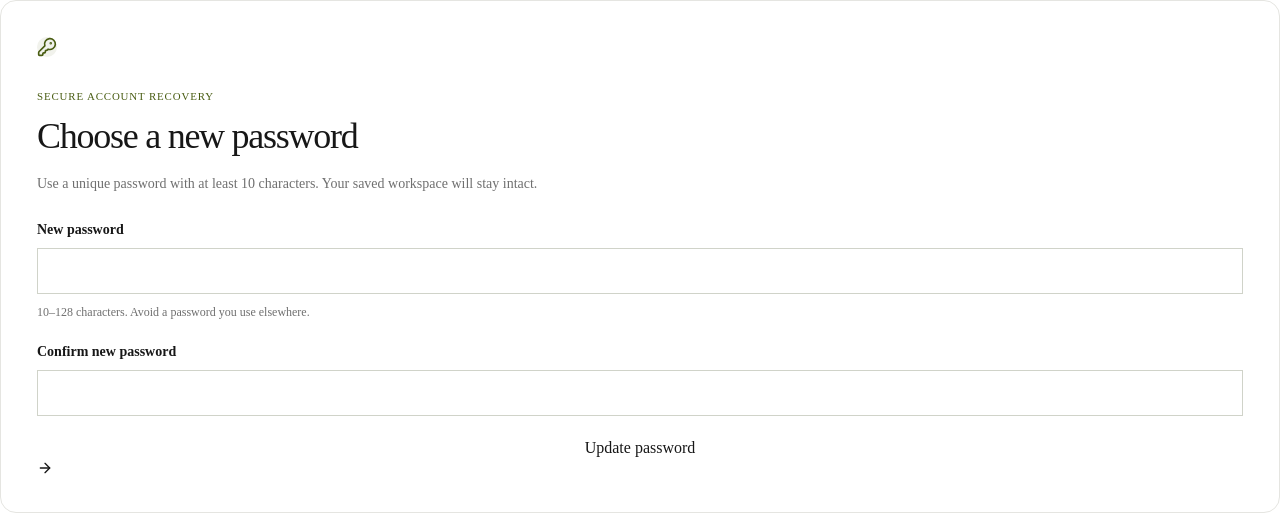
Scenario: human email-link password reset › retains the finite complete outcome across an owner remount without retaining proof
Later steps or results of the test are not shown.
Type "human-new-password-123" into the password field labelled "New password" at (640, 271), box [37, 248, 1243, 294]
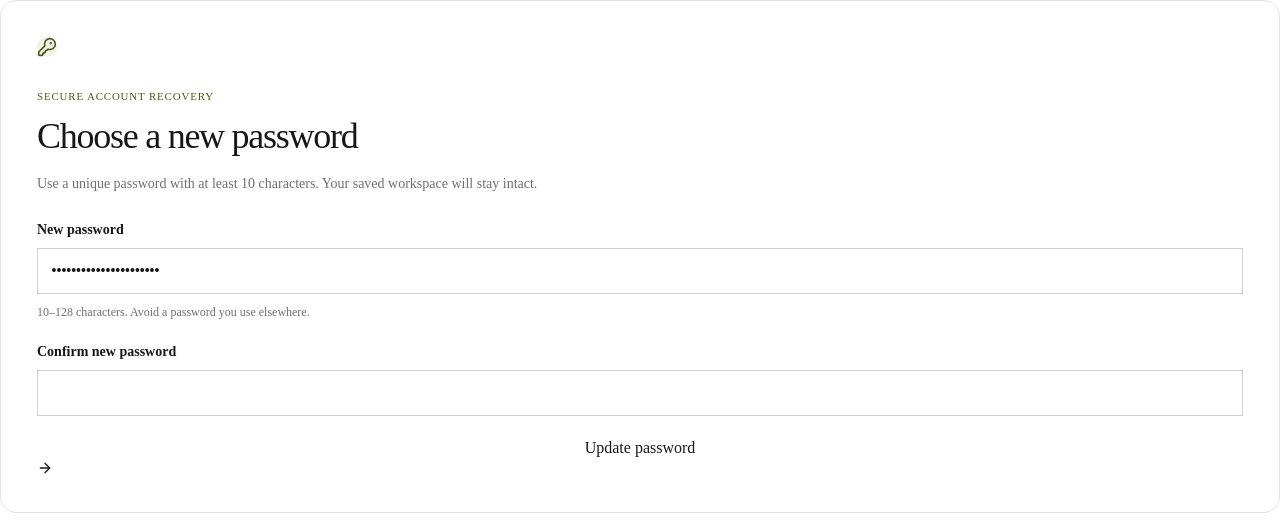
Type "human-new-password-123" into the password field labelled "Confirm new password" at (640, 393), box [37, 370, 1243, 416]
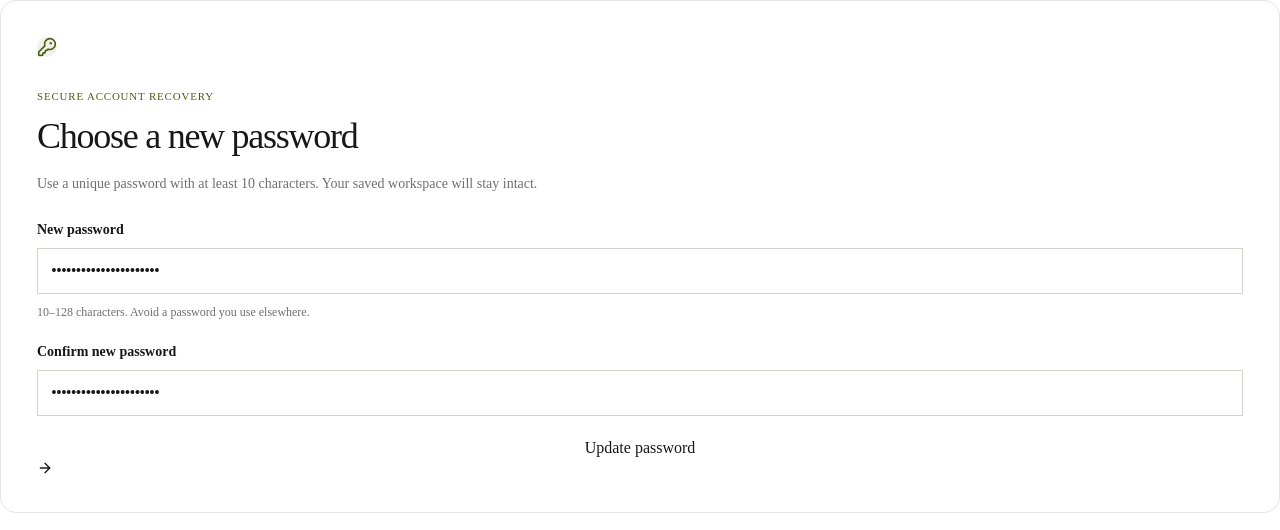
Click the button "Update password" at (640, 456), box [37, 436, 1243, 476]
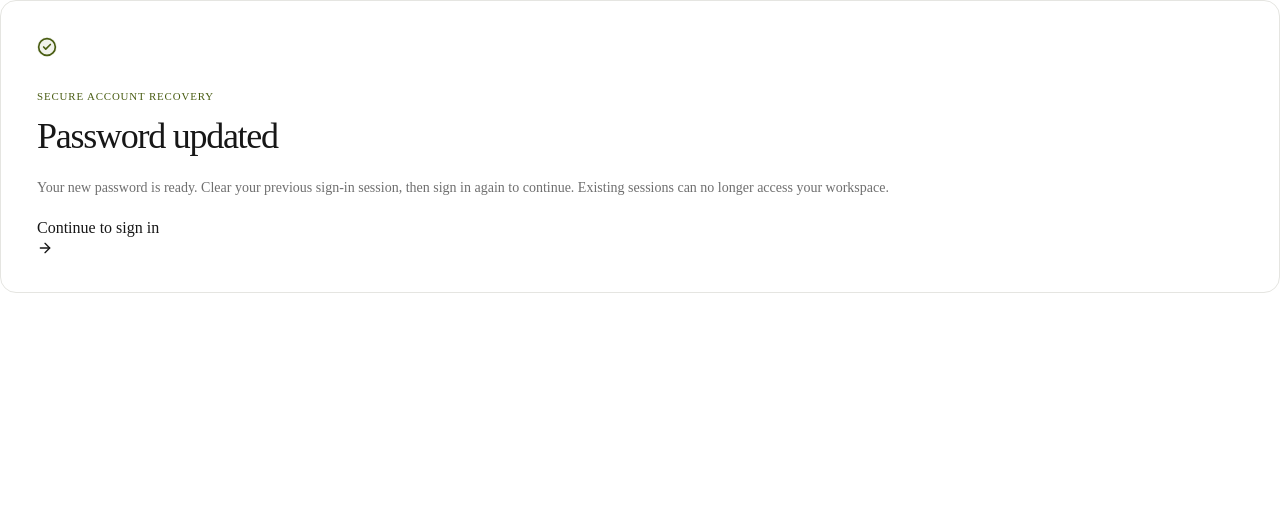
Now the link "Continue to sign in" is shown, box [37, 219, 159, 256]
